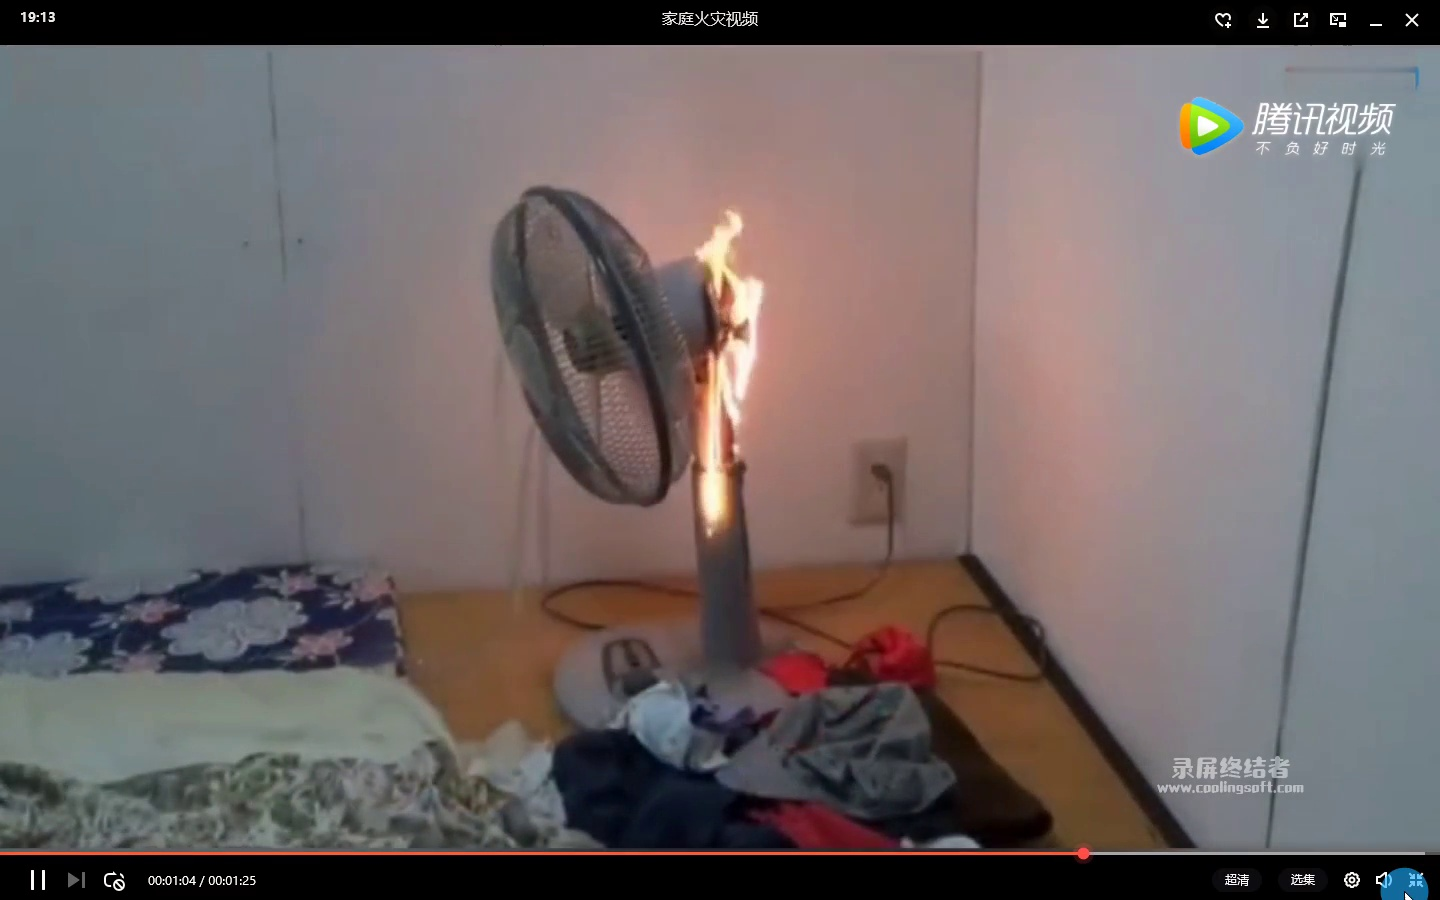fire: (691, 209, 778, 544)
